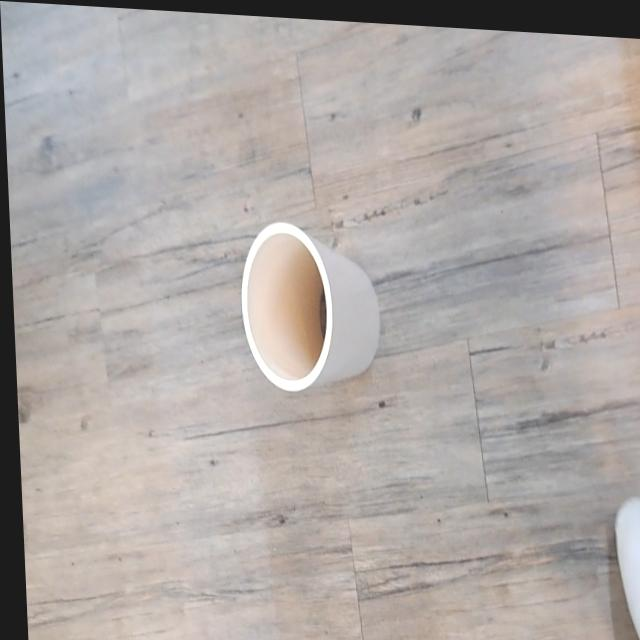CORAL: (224, 206, 408, 443)
